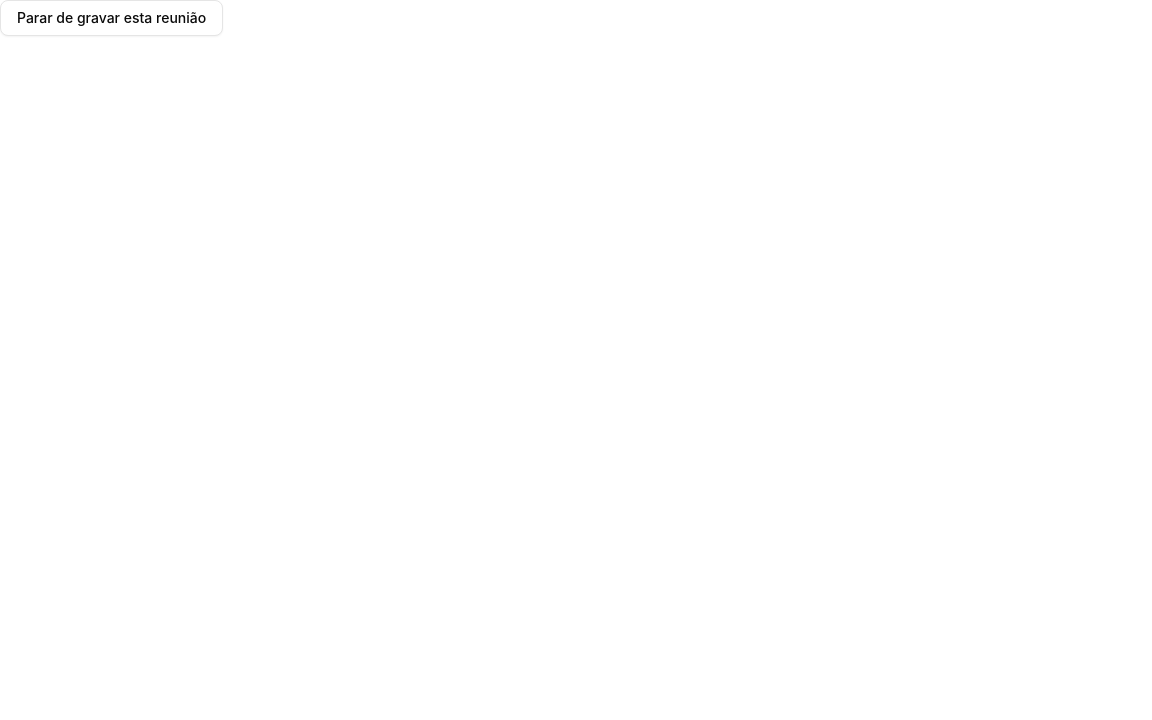
Test: StopRecordingButton › com gravação: pergunta e descarta
Later steps or results of the test are not shown.
Click the button "Parar de gravar esta reunião".
click(112, 18)  # box [0,0,223,36]
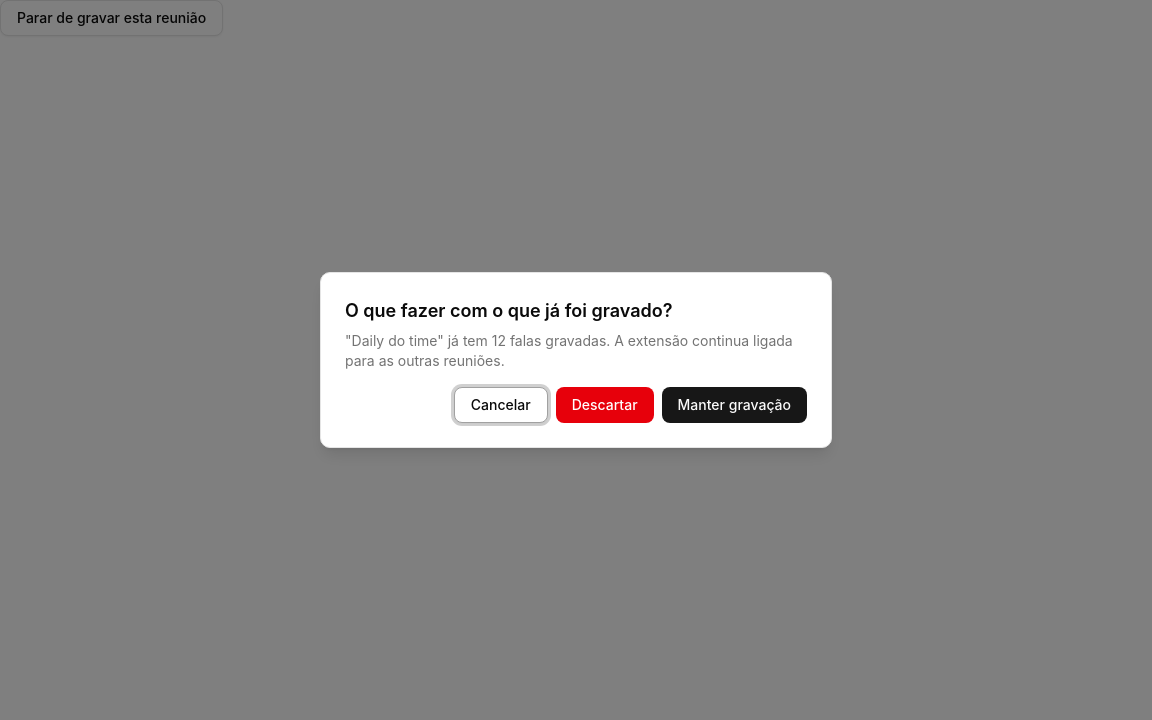
Check: the heading "O que fazer com o que já foi gravado?" is shown, box [345,297,672,325]
